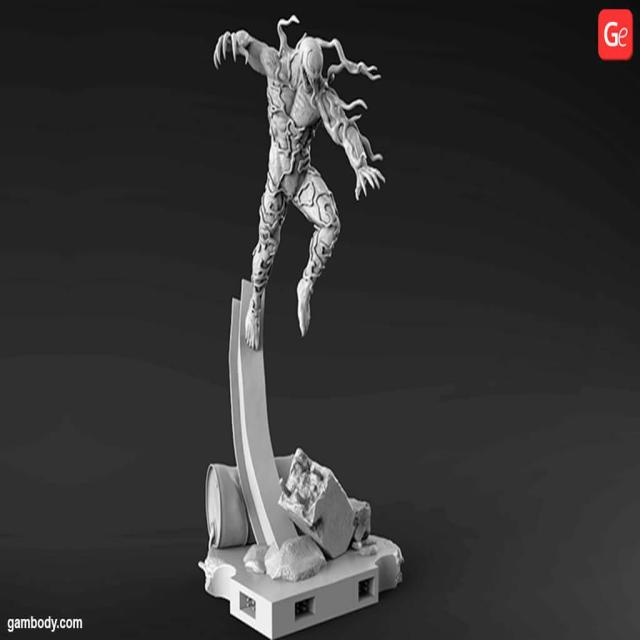Without deffect: (191, 15, 413, 640)
